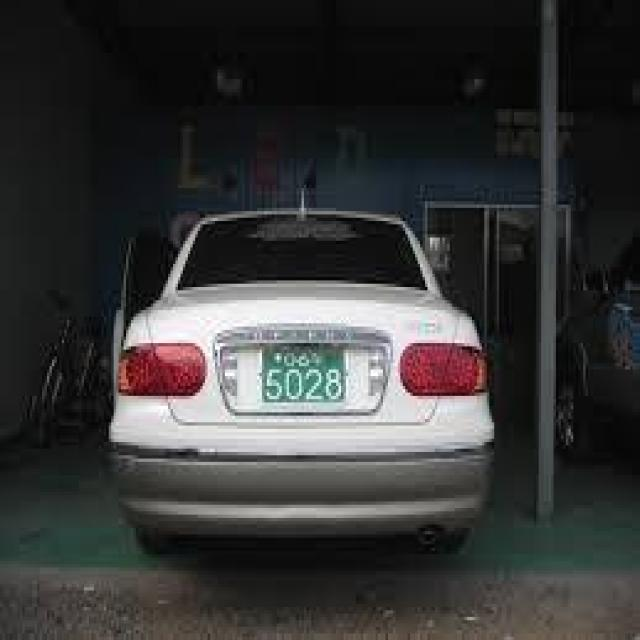car: (104, 187, 504, 572)
illegal_plate: (262, 339, 355, 420)
